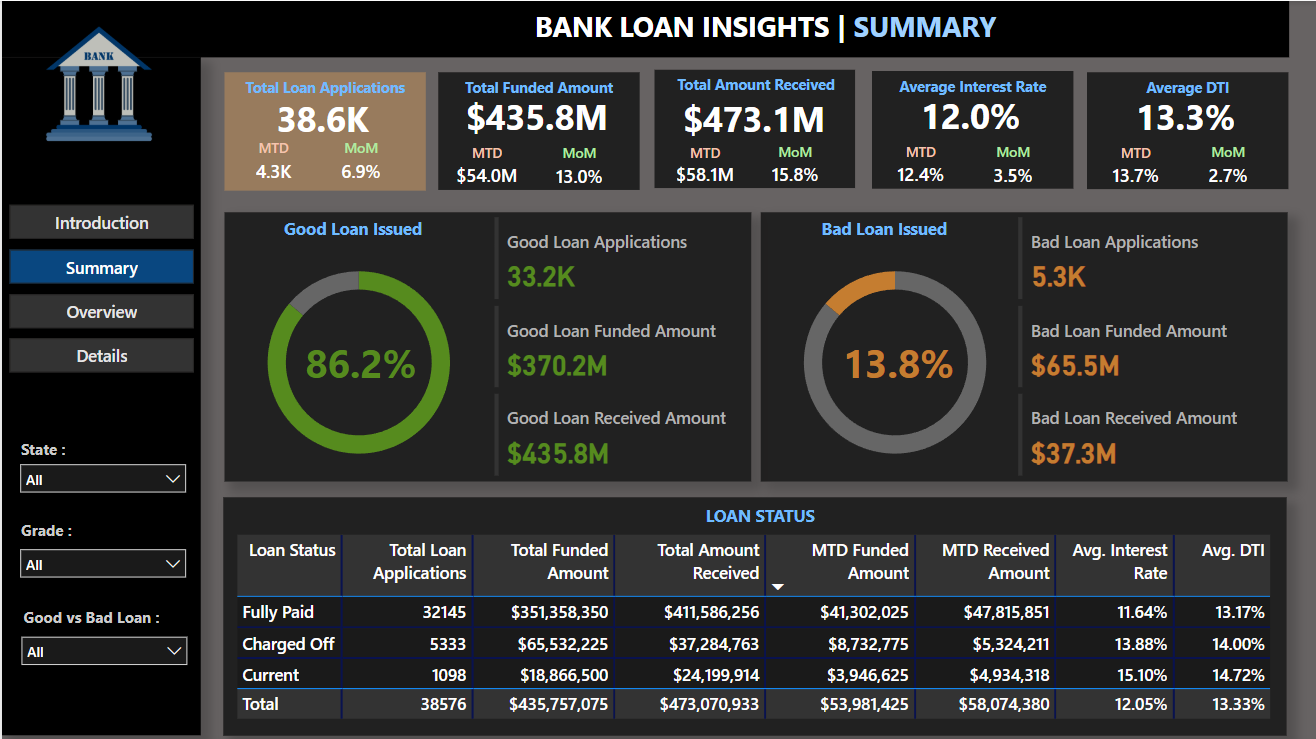

Layout of this report page (visuals, bound fields, positions):
{"tool":"powerbi","page":{"name":"Summary","canvas":[1280,720],"ordinal":1},"visuals":[{"type":"shape","box":[629.2,66.4,193.8,114.2],"z":0,"group":"g3"},{"type":"shape","box":[839.7,67.5,194.5,114],"z":0,"group":"g4"},{"type":"shape","box":[214.3,68.6,194.3,114.3],"z":0,"group":"g1"},{"type":"shape","box":[421.4,68.6,194.5,114],"z":0,"group":"g2"},{"type":"shape","box":[1047.1,68.6,194.5,113.1],"z":0,"group":"g5"},{"type":"shape","box":[214.3,204.3,508.6,260],"z":0},{"type":"card","fields":{"Values":["table_measures.avg_interest_rate"]},"box":[851.5,82.1,165.9,58.4],"z":1000,"group":"g4"},{"type":"card","fields":{"Values":["table_measures.avg_DTI"]},"box":[1058.9,83.1,165.9,57.9],"z":1000,"group":"g5"},{"type":"card","fields":{"Values":["table_measures.total_loan_appl"]},"box":[247.2,83.2,124.3,61.3],"z":1000,"group":"g1"},{"type":"card","fields":{"Values":["table_measures.total_funded_amt"]},"box":[433.2,83.2,165.9,58.4],"z":1000,"group":"g2"},{"type":"card","fields":{"Values":["table_measures.total_received_amt"]},"box":[643.2,85.3,163.1,55.8],"z":1000,"group":"g3"},{"type":"donutChart","fields":{"Category":["financial_loan.Good vs Band Loan"],"Y":["table_measures.total_loan_appl"]},"box":[220,234.3,250,230],"z":1000},{"type":"shape","box":[0,0,1242.3,54.5],"z":2000},{"type":"textbox","box":[632.2,67,191,41.6],"z":2000,"group":"g3"},{"type":"textbox","box":[839.7,67.5,194.5,38.9],"z":2000,"group":"g4"},{"type":"textbox","box":[214.3,68.6,194.3,39],"z":2000,"group":"g1"},{"type":"textbox","box":[421.4,68.6,194.5,38.9],"z":2000,"group":"g2"},{"type":"textbox","box":[1047.1,68.6,194.5,38.6],"z":2000,"group":"g5"},{"type":"shape","box":[0,54.7,191.9,654.7],"z":3000},{"type":"card","title":"MTD","fields":{"Values":["table_measures.MTD_loan_appl"]},"box":[235.7,132.7,51.4,50.2],"z":3000,"group":"g1"},{"type":"card","title":"MTD","fields":{"Values":["table_measures.MTD_interest_rate"]},"box":[851.5,136.3,70.1,48.6],"z":3000,"group":"g4"},{"type":"card","title":"MTD","fields":{"Values":["table_measures.MTD_avg_DTI"]},"box":[1058.9,136.9,70.1,48.3],"z":3000,"group":"g5"},{"type":"card","title":"MTD","fields":{"Values":["table_measures.MTD_received_amt"]},"box":[643.2,137.1,68.9,46.5],"z":3000,"group":"g3"},{"type":"card","title":"MTD","fields":{"Values":["table_measures.MTD_funded_amt"]},"box":[433.2,137.4,70.1,48.6],"z":3000,"group":"g2"},{"type":"card","title":"MoM","fields":{"Values":["table_measures.MOM_loan_appl"]},"box":[320,132.7,51.4,50.2],"z":4000,"group":"g1"},{"type":"card","title":"MoM","fields":{"Values":["table_measures.MOM_interest_rate"]},"box":[946.6,136.1,57.8,49.7],"z":4000,"group":"g4"},{"type":"card","title":"MoM","fields":{"Values":["table_measures.MOM_avg_DTI"]},"box":[1154,136.7,57.8,49.3],"z":4000,"group":"g5"},{"type":"card","title":"MoM","fields":{"Values":["table_measures.MOM_received_amt"]},"box":[736.7,136.9,56.8,47.5],"z":4000,"group":"g3"},{"type":"card","title":"MoM","fields":{"Values":["table_measures.MOM_funded_amt"]},"box":[528.3,137.2,57.8,49.7],"z":4000,"group":"g2"},{"type":"textbox","box":[13.8,417,119.7,38.5],"z":4000},{"type":"textbox","box":[235.7,204.3,207.1,34.3],"z":5000},{"type":"card","fields":{"Values":["table_measures.good_loan_per"]},"box":[287.1,321.4,118.6,57.1],"z":6000},{"type":"textbox","box":[509.1,1.2,477.8,49.5],"z":7000},{"type":"group","id":"g1","title":"Group 1","box":[214.3,68.6,194.3,114.3],"z":8000},{"type":"group","id":"g2","title":"Group 1","box":[421.4,68.6,194.3,118],"z":9000},{"type":"group","id":"g3","title":"Group 1","box":[629.2,66.4,194,118],"z":10000},{"type":"group","id":"g4","title":"Group 1","box":[839.7,67.5,194.5,118.2],"z":11000},{"type":"group","id":"g5","title":"Group 1","box":[1047.1,68.6,194.3,117.1],"z":12000},{"type":"shape","box":[732.9,204.3,508.6,260],"z":13000},{"type":"cardVisual","fields":{"Data":["table_measures.good_loan_appl","table_measures.good_loan_funded_amt","table_measures.good_loan_received_amt"]},"box":[470,204.3,252.9,260],"z":14000},{"type":"donutChart","fields":{"Category":["financial_loan.Good vs Band Loan"],"Y":["table_measures.total_loan_appl"]},"box":[737.1,234.3,250,230],"z":15000},{"type":"card","fields":{"Values":["table_measures.bad_loan_per"]},"box":[805.7,321.4,118.6,57.1],"z":16000},{"type":"textbox","box":[748.6,204.3,207.1,34.3],"z":17000},{"type":"cardVisual","fields":{"Data":["table_measures.bad_loan_appl","table_measures.bad_loan_funded_amt","table_measures.bad_loan_received_amt"]},"box":[975.7,204.3,252.9,260],"z":18000},{"type":"shape","box":[214,479.1,1026.7,230.2],"z":19000},{"type":"tableEx","fields":{"Values":["financial_loan.loan_status","table_measures.total_loan_appl","table_measures.total_funded_amt","table_measures.total_received_amt","table_measures.MTD_funded_amt","table_measures.MTD_received_amt","table_measures.avg_interest_rate","table_measures.avg_DTI"]},"box":[220.4,509.8,1008.5,200.4],"z":20000},{"type":"textbox","box":[646.8,479.8,170.3,34.5],"z":21000},{"type":"slicer","fields":{"Values":["financial_loan.address_state"]},"box":[6.9,436.3,180.3,50.9],"z":22000},{"type":"slicer","fields":{"Values":["financial_loan.grade"]},"box":[6.9,518.9,180.3,50.9],"z":23000},{"type":"textbox","box":[13.8,495.5,119.7,38.5],"z":24000},{"type":"pageNavigator","box":[6.9,196.8,178.9,163.8],"z":25000},{"type":"image","box":[0,1.4,187.2,156.9],"z":26000},{"type":"slicer","fields":{"Values":["financial_loan.Good vs Band Loan"]},"box":[8.3,602.8,180.3,50.9],"z":27000},{"type":"textbox","box":[15.1,579.4,163.8,38.5],"z":28000}]}

Visuals, with their boxes in screenshot pixels (x1, y1, x2, y2), scaled from the page's 1280x720 canvas onto the 1316x739 screenshot:
shape: bbox=(647, 68, 846, 185)
shape: bbox=(863, 69, 1063, 186)
shape: bbox=(220, 70, 420, 188)
shape: bbox=(433, 70, 633, 187)
shape: bbox=(1077, 70, 1277, 186)
shape: bbox=(220, 210, 743, 477)
card - table_measures.avg_interest_rate: bbox=(875, 84, 1046, 144)
card - table_measures.avg_DTI: bbox=(1089, 85, 1259, 145)
card - table_measures.total_loan_appl: bbox=(254, 85, 382, 148)
card - table_measures.total_funded_amt: bbox=(445, 85, 616, 145)
card - table_measures.total_received_amt: bbox=(661, 88, 829, 145)
donutChart - financial_loan.Good vs Band Loan x table_measures.total_loan_appl: bbox=(226, 240, 483, 477)
shape: bbox=(0, 0, 1277, 56)
textbox: bbox=(650, 69, 846, 111)
textbox: bbox=(863, 69, 1063, 109)
textbox: bbox=(220, 70, 420, 110)
textbox: bbox=(433, 70, 633, 110)
textbox: bbox=(1077, 70, 1277, 110)
shape: bbox=(0, 56, 197, 728)
"MTD" card: bbox=(242, 136, 295, 188)
"MTD" card: bbox=(875, 140, 948, 190)
"MTD" card: bbox=(1089, 141, 1161, 190)
"MTD" card: bbox=(661, 141, 732, 188)
"MTD" card: bbox=(445, 141, 517, 191)
"MoM" card: bbox=(329, 136, 382, 188)
"MoM" card: bbox=(973, 140, 1033, 191)
"MoM" card: bbox=(1186, 140, 1246, 191)
"MoM" card: bbox=(757, 141, 816, 189)
"MoM" card: bbox=(543, 141, 603, 192)
textbox: bbox=(14, 428, 137, 468)
textbox: bbox=(242, 210, 455, 245)
card - table_measures.good_loan_per: bbox=(295, 330, 417, 388)
textbox: bbox=(523, 1, 1015, 52)
"Group 1" group: bbox=(220, 70, 420, 188)
"Group 1" group: bbox=(433, 70, 633, 192)
"Group 1" group: bbox=(647, 68, 846, 189)
"Group 1" group: bbox=(863, 69, 1063, 191)
"Group 1" group: bbox=(1077, 70, 1276, 191)
shape: bbox=(754, 210, 1276, 477)
cardVisual - table_measures.good_loan_appl x table_measures.good_loan_funded_amt: bbox=(483, 210, 743, 477)
donutChart - financial_loan.Good vs Band Loan x table_measures.total_loan_appl: bbox=(758, 240, 1015, 477)
card - table_measures.bad_loan_per: bbox=(828, 330, 950, 388)
textbox: bbox=(770, 210, 983, 245)
cardVisual - table_measures.bad_loan_appl x table_measures.bad_loan_funded_amt: bbox=(1003, 210, 1263, 477)
shape: bbox=(220, 492, 1276, 728)
tableEx - financial_loan.loan_status x table_measures.total_loan_appl: bbox=(227, 523, 1263, 729)
textbox: bbox=(665, 492, 840, 528)
slicer - financial_loan.address_state: bbox=(7, 448, 192, 500)
slicer - financial_loan.grade: bbox=(7, 533, 192, 585)
textbox: bbox=(14, 509, 137, 548)
pageNavigator: bbox=(7, 202, 191, 370)
image: bbox=(0, 1, 192, 162)
slicer - financial_loan.Good vs Band Loan: bbox=(9, 619, 194, 671)
textbox: bbox=(16, 595, 184, 634)
